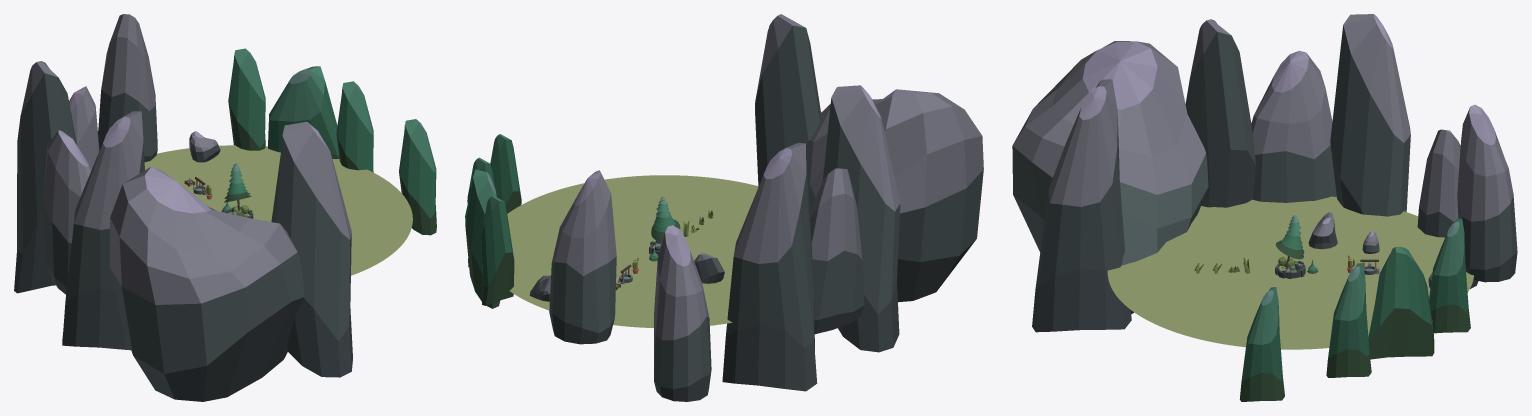
Rendered from Bush_small.fbx.
3 views of the same model, side by side, from view 1: azimuth 30°, elevation 25°; view 2: azimuth 150°, elevation 25°; view 3: azimuth 270°, elevation 25° (orthographic). The views are drawn at different scales.
Visible parts, largest first — view 1: Stone 03.001, Stone 01.002, Platform, Stone 01.001, Stone 01.003, Stone 02.003, Stone 02, Stone 01.006, Stone 01.004, Stone 01.005, Stone 01.007, Stone 02.002 (+2 smaller); view 2: Stone 01.003, Platform, Stone 03.001, Stone 01.001, Stone 02.003, Stone 02.002, Stone 01.002, Stone 02, Stone 01.005, Stone 01.006, Stone 01.004, Tanne (+1 smaller); view 3: Platform, Stone 03.001, Stone 01.002, Stone 01.003, Stone 02, Stone 01.001, Stone 02.003, Stone 01.006, Stone 01.007, Stone 01.004, Stone 02.002, Stone 01.005 (+2 smaller).
Boxes of the visible parts, x1=… form: Stone 03.001: x1=109, y1=166, x2=303, y2=401; Stone 01.002: x1=271, y1=121, x2=352, y2=377; Platform: x1=144, y1=145, x2=412, y2=275; Stone 01.001: x1=62, y1=111, x2=144, y2=350; Stone 01.003: x1=14, y1=61, x2=76, y2=293; Stone 02.003: x1=98, y1=14, x2=157, y2=161; Stone 02: x1=42, y1=130, x2=91, y2=294; Stone 01.006: x1=268, y1=66, x2=339, y2=158; Stone 01.004: x1=399, y1=119, x2=436, y2=235; Stone 01.005: x1=228, y1=48, x2=265, y2=150; Stone 01.007: x1=336, y1=81, x2=373, y2=172; Stone 02.002: x1=69, y1=86, x2=99, y2=168; Stone 01.003: x1=722, y1=142, x2=817, y2=391; Platform: x1=507, y1=175, x2=758, y2=327; Stone 03.001: x1=806, y1=89, x2=983, y2=302; Stone 01.001: x1=822, y1=85, x2=900, y2=352; Stone 02.003: x1=549, y1=170, x2=616, y2=344; Stone 02.002: x1=654, y1=225, x2=711, y2=401; Stone 01.002: x1=755, y1=14, x2=820, y2=186; Stone 02: x1=810, y1=168, x2=864, y2=334; Stone 01.005: x1=481, y1=195, x2=514, y2=305; Stone 01.006: x1=465, y1=169, x2=499, y2=308; Stone 01.004: x1=490, y1=134, x2=521, y2=213; Tanne: x1=649, y1=196, x2=680, y2=255; Platform: x1=1107, y1=196, x2=1473, y2=349; Stone 03.001: x1=1012, y1=41, x2=1208, y2=313; Stone 01.002: x1=1032, y1=79, x2=1131, y2=332; Stone 01.003: x1=1330, y1=14, x2=1410, y2=216; Stone 02: x1=1251, y1=50, x2=1336, y2=202; Stone 01.001: x1=1185, y1=19, x2=1255, y2=207; Stone 02.003: x1=1457, y1=104, x2=1517, y2=282; Stone 01.006: x1=1368, y1=246, x2=1434, y2=359; Stone 01.007: x1=1326, y1=263, x2=1371, y2=377; Stone 01.004: x1=1239, y1=287, x2=1284, y2=401; Stone 02.002: x1=1417, y1=129, x2=1478, y2=288; Stone 01.005: x1=1429, y1=218, x2=1470, y2=333.
Bounding box in the file's own units: 12666 × 7255 × 13726.
